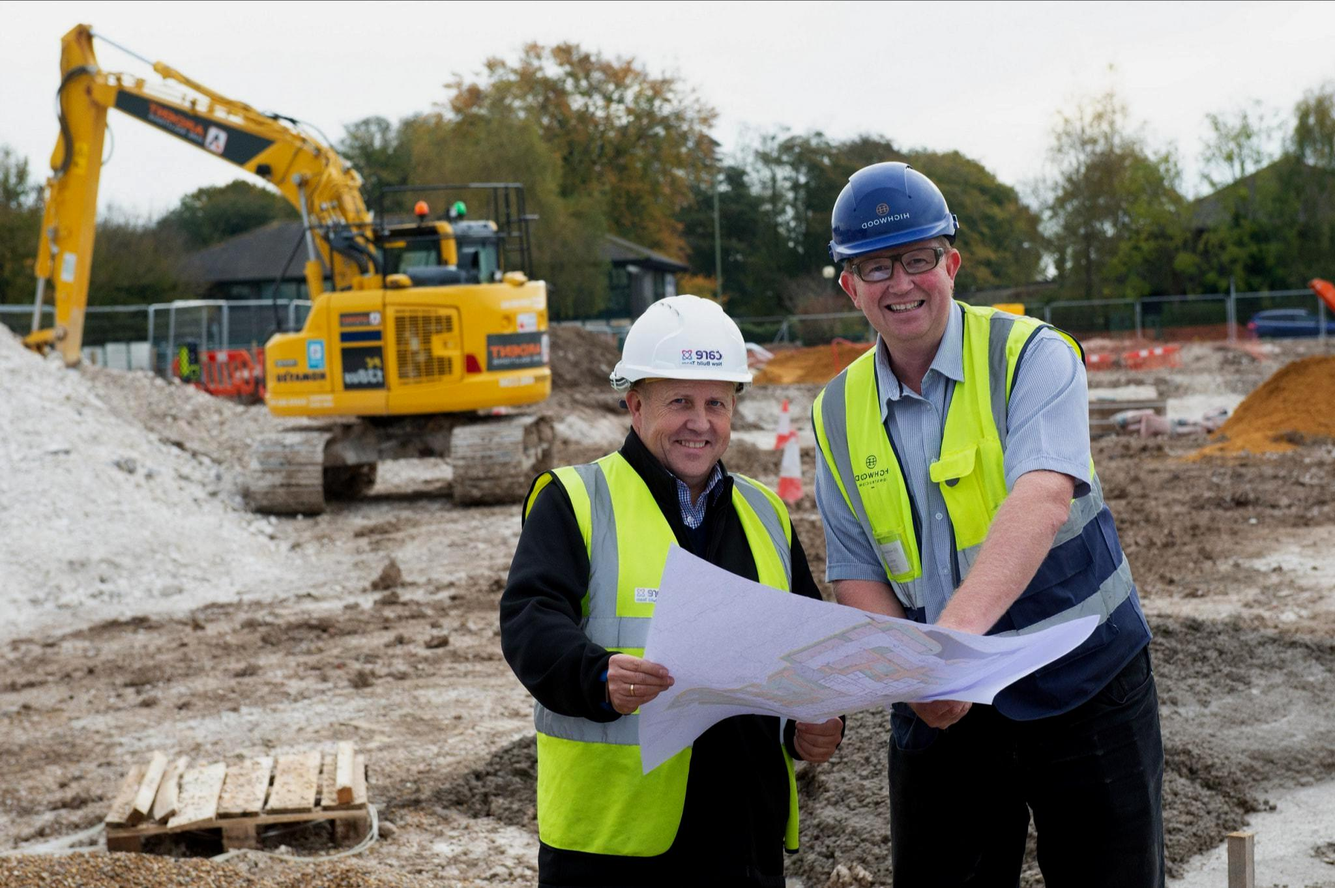helmet: (602, 289, 759, 407), (816, 158, 975, 270)
person: (800, 151, 1159, 888), (493, 292, 816, 888)
